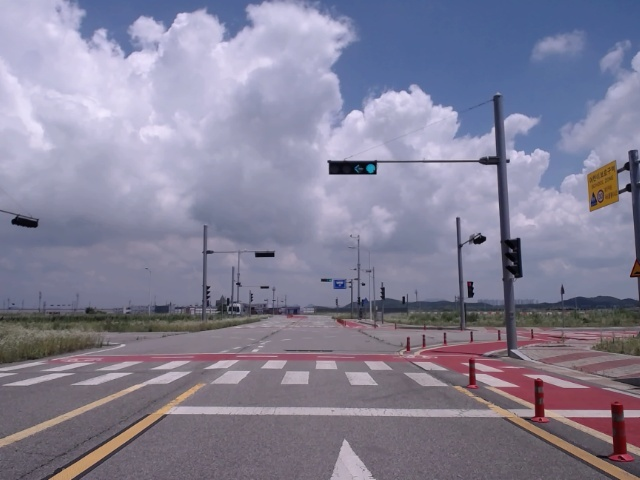all_green_4: (326, 160, 377, 176)
